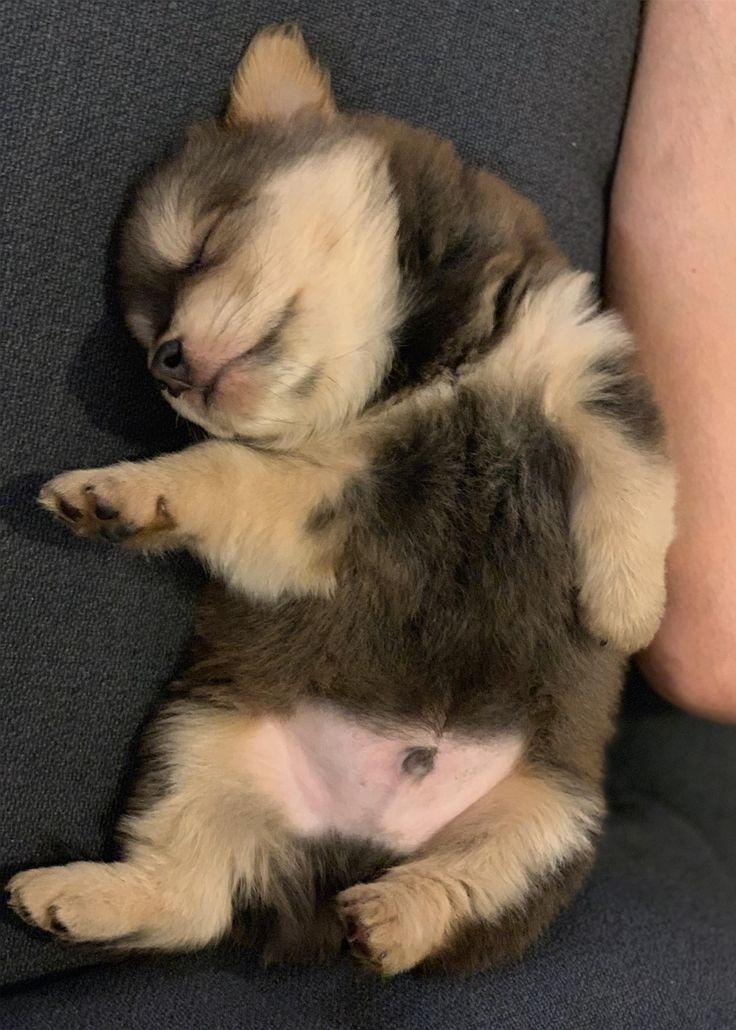puppy-dog: (8, 21, 677, 984)
